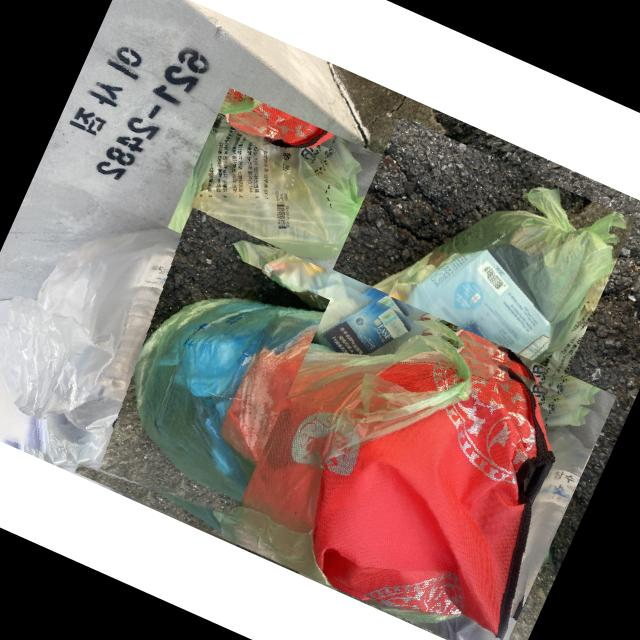general_trashbag: (115, 316, 555, 634), (0, 231, 233, 521), (325, 188, 627, 382), (186, 116, 379, 258)
